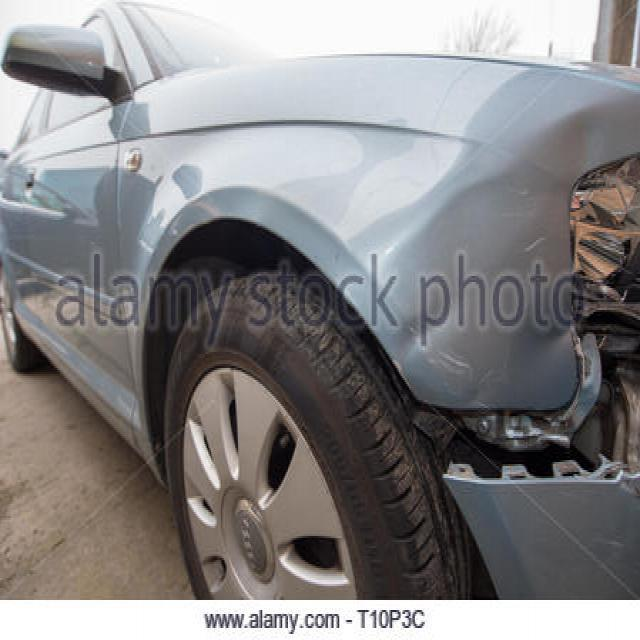front-bumper-dent: (398, 362, 639, 638)
